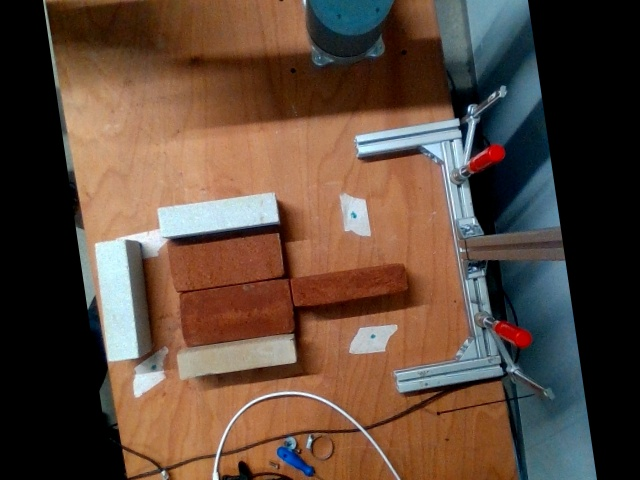brick: (169, 226, 282, 292), (179, 281, 292, 346)
brick-side: (157, 192, 278, 237), (291, 264, 408, 307), (96, 241, 136, 359), (178, 341, 296, 379)
